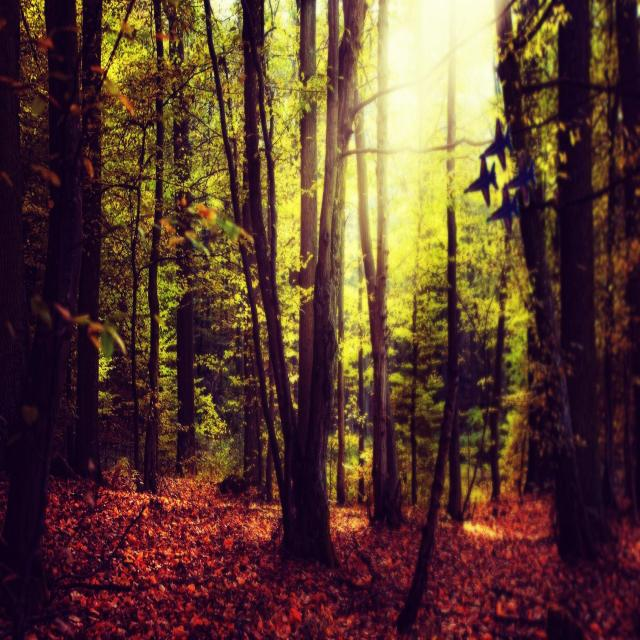airplane: (477, 116, 514, 173), (501, 152, 540, 204), (463, 155, 499, 209), (487, 189, 520, 230)
